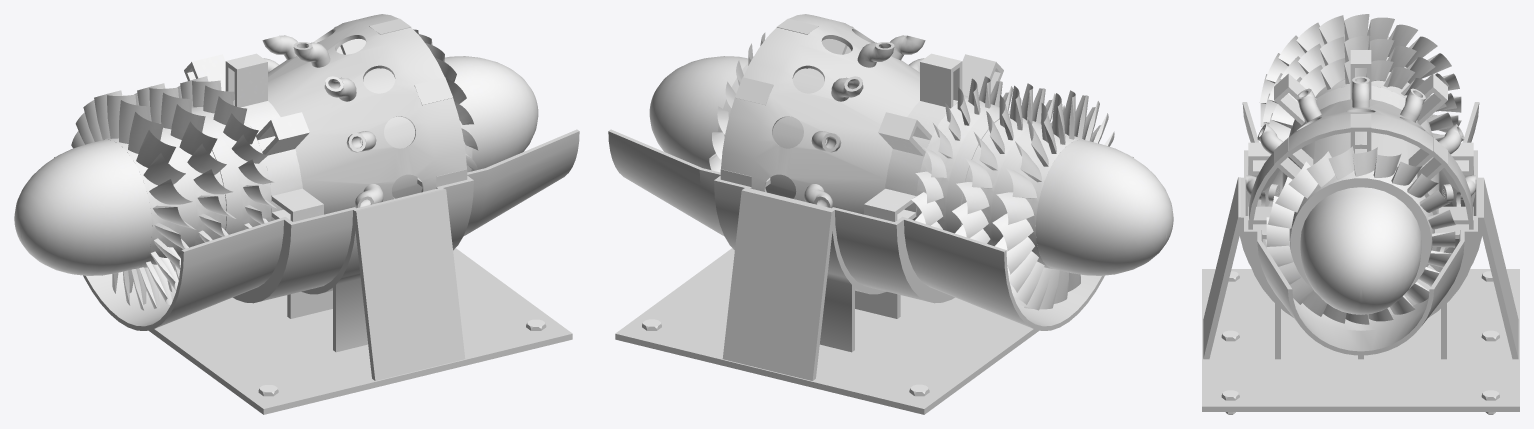
Rendered from TRD01.fbx.
The picture shows the model from 3 angles, left to right: view 1: azimuth 30°, elevation 25°; view 2: azimuth 150°, elevation 25°; view 3: azimuth 270°, elevation 25°; orthographic projection. The views are drawn at different scales.
Visible parts, largest first — view 1: ТРД.001, ТРД.002, ТРД, ТРД.014, ТРД.003, ТРД.008, ТРД.012, ТРД.010, ТРД.011, ТРД.009, ТРД.013, ТРД.019 (+3 smaller); view 2: ТРД.001, ТРД.002, ТРД, ТРД.014, ТРД.003, ТРД.008, ТРД.012, ТРД.010, ТРД.011, ТРД.013, ТРД.009, ТРД.019 (+3 smaller); view 3: ТРД.001, ТРД.009, ТРД.008, ТРД.002, ТРД.014, ТРД.003, ТРД.010, ТРД.012, Circle, ТРД.019, ТРД.018, ТРД.020 (+4 smaller).
Boxes of the visible parts, x1,y1,x2,y2 form: ТРД.001: [54, 129, 579, 414]; ТРД.002: [268, 14, 467, 214]; ТРД: [14, 139, 152, 275]; ТРД.014: [71, 90, 195, 310]; ТРД.003: [184, 53, 323, 221]; ТРД.008: [444, 56, 538, 171]; ТРД.012: [134, 83, 235, 291]; ТРД.010: [177, 76, 276, 230]; ТРД.011: [191, 108, 241, 234]; ТРД.009: [413, 29, 478, 172]; ТРД.013: [160, 131, 196, 264]; ТРД.019: [293, 42, 330, 67]; ТРД.001: [608, 129, 1133, 414]; ТРД.002: [720, 14, 919, 214]; ТРД: [1035, 139, 1173, 275]; ТРД.014: [992, 90, 1114, 310]; ТРД.003: [864, 53, 1003, 221]; ТРД.008: [649, 56, 748, 169]; ТРД.012: [952, 83, 1064, 246]; ТРД.010: [911, 76, 1021, 230]; ТРД.011: [946, 108, 1010, 233]; ТРД.013: [991, 124, 1042, 245]; ТРД.009: [709, 32, 765, 172]; ТРД.019: [857, 42, 894, 67]; ТРД.001: [1202, 102, 1519, 411]; ТРД.009: [1265, 146, 1455, 324]; ТРД.008: [1300, 187, 1421, 314]; ТРД.002: [1248, 99, 1473, 318]; ТРД.014: [1259, 14, 1461, 133]; ТРД.003: [1248, 50, 1473, 175]; ТРД.010: [1268, 58, 1453, 141]; ТРД.012: [1262, 35, 1458, 134]; Circle: [1221, 271, 1499, 414]; ТРД.019: [1352, 76, 1369, 107]; ТРД.018: [1296, 88, 1321, 122]; ТРД.020: [1400, 88, 1425, 122].
Size of the model in its own units: 18464 by 9748 by 10730.
